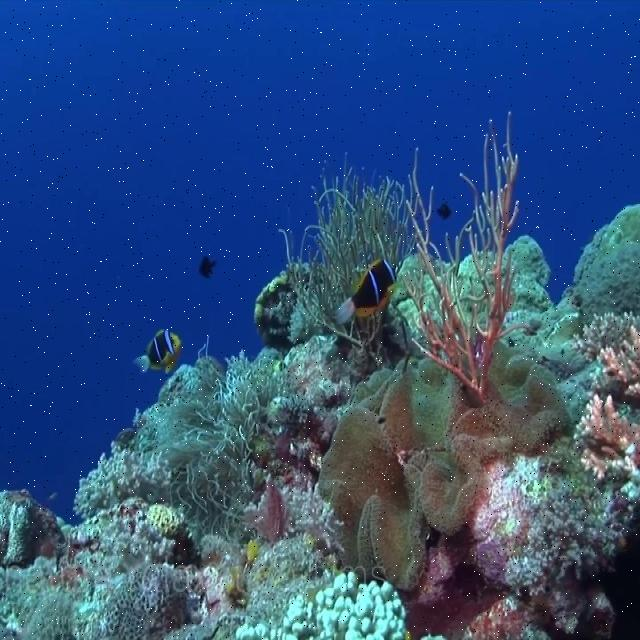fish: (334, 256, 400, 326), (132, 329, 182, 376), (198, 255, 216, 278), (436, 203, 454, 220)
reefs: (0, 108, 638, 640)
